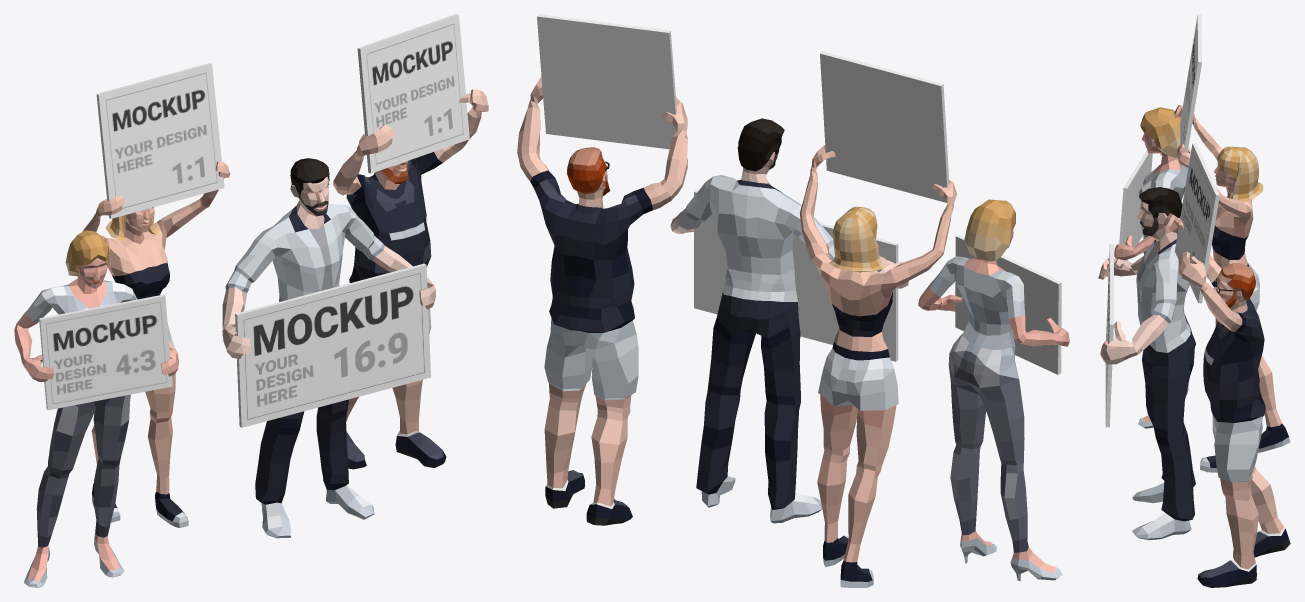
File: Protesting_free.fbx
3 views of the same model, side by side, from view 1: azimuth 30°, elevation 25°; view 2: azimuth 150°, elevation 25°; view 3: azimuth 270°, elevation 25° (orthographic). The views are drawn at different scales.
Parts seen in each view (by area): view 1: sign_16x9_000, casual_Male_G, casual_Female_G, sign_1x1_000, sign_1x1_001, casual_Male_K, sign_4x3_000, casual_Female_K; view 2: casual_Male_K, casual_Male_G, casual_Female_K, casual_Female_G, sign_1x1_001, sign_1x1_000, sign_16x9_000, sign_4x3_000; view 3: casual_Male_K, casual_Male_G, casual_Female_K, casual_Female_G, sign_1x1_001, sign_4x3_000, sign_1x1_000, sign_16x9_000.
Part boxes in pixels (x1,y1,x2,y2): sign_16x9_000: (235,263,430,427); casual_Male_G: (222,158,435,538); casual_Female_G: (14,230,178,587); sign_1x1_000: (96,63,224,218); sign_1x1_001: (357,14,469,173); casual_Male_K: (333,89,488,469); sign_4x3_000: (39,294,172,410); casual_Female_K: (82,161,230,527); casual_Male_K: (517,76,687,525); casual_Male_G: (670,118,908,523); casual_Female_K: (799,145,956,587); casual_Female_G: (918,199,1069,581); sign_1x1_001: (537,14,676,149); sign_1x1_000: (820,51,949,202); sign_16x9_000: (694,190,898,361); sign_4x3_000: (955,235,1061,374); casual_Male_K: (1163,213,1290,587); casual_Male_G: (1098,187,1195,540); casual_Female_K: (1174,105,1290,472); casual_Female_G: (1114,107,1191,428); sign_1x1_001: (1174,143,1219,303); sign_4x3_000: (1119,150,1152,260); sign_1x1_000: (1180,14,1201,171); sign_16x9_000: (1105,243,1113,427).
Bounding box in the file's own units: 254 × 232 × 96.2.
